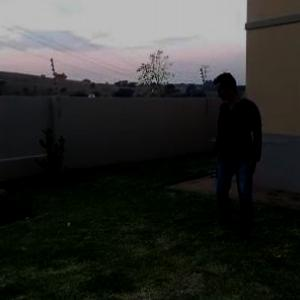follow: (208, 68, 266, 243)
